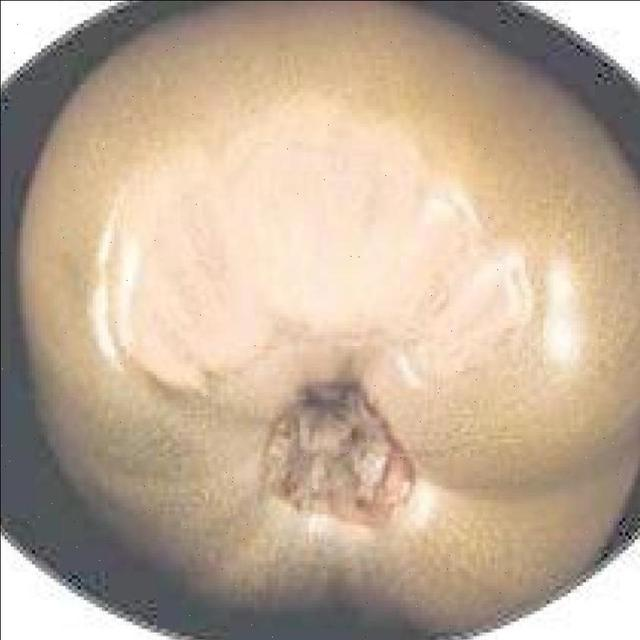Sunscald Fruit: (61, 58, 360, 290)
